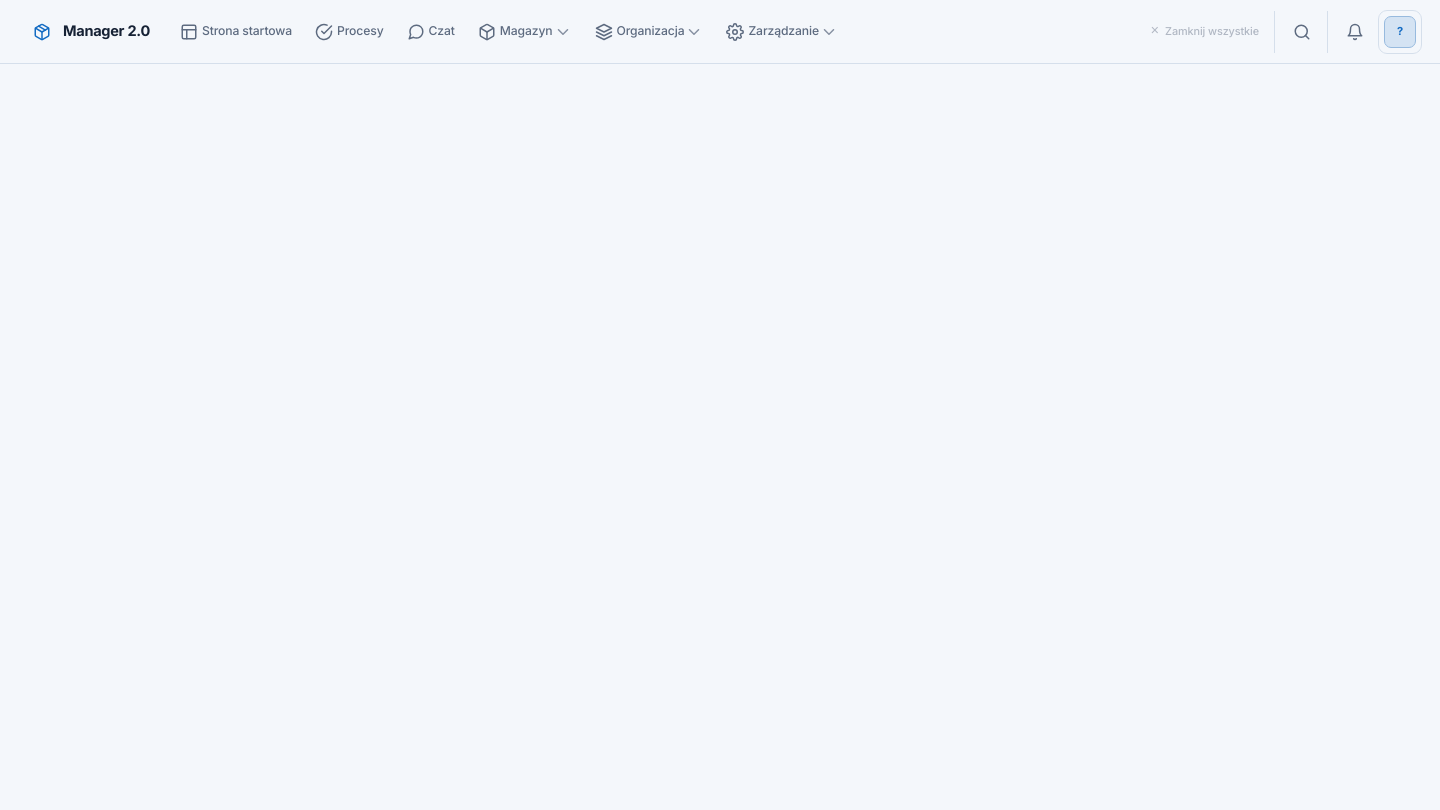
Navbar warehouse menu › opens create pallet dialog with empty and from-shipments options
Click the button "Magazyn": (525, 32) [468,12,582,50]
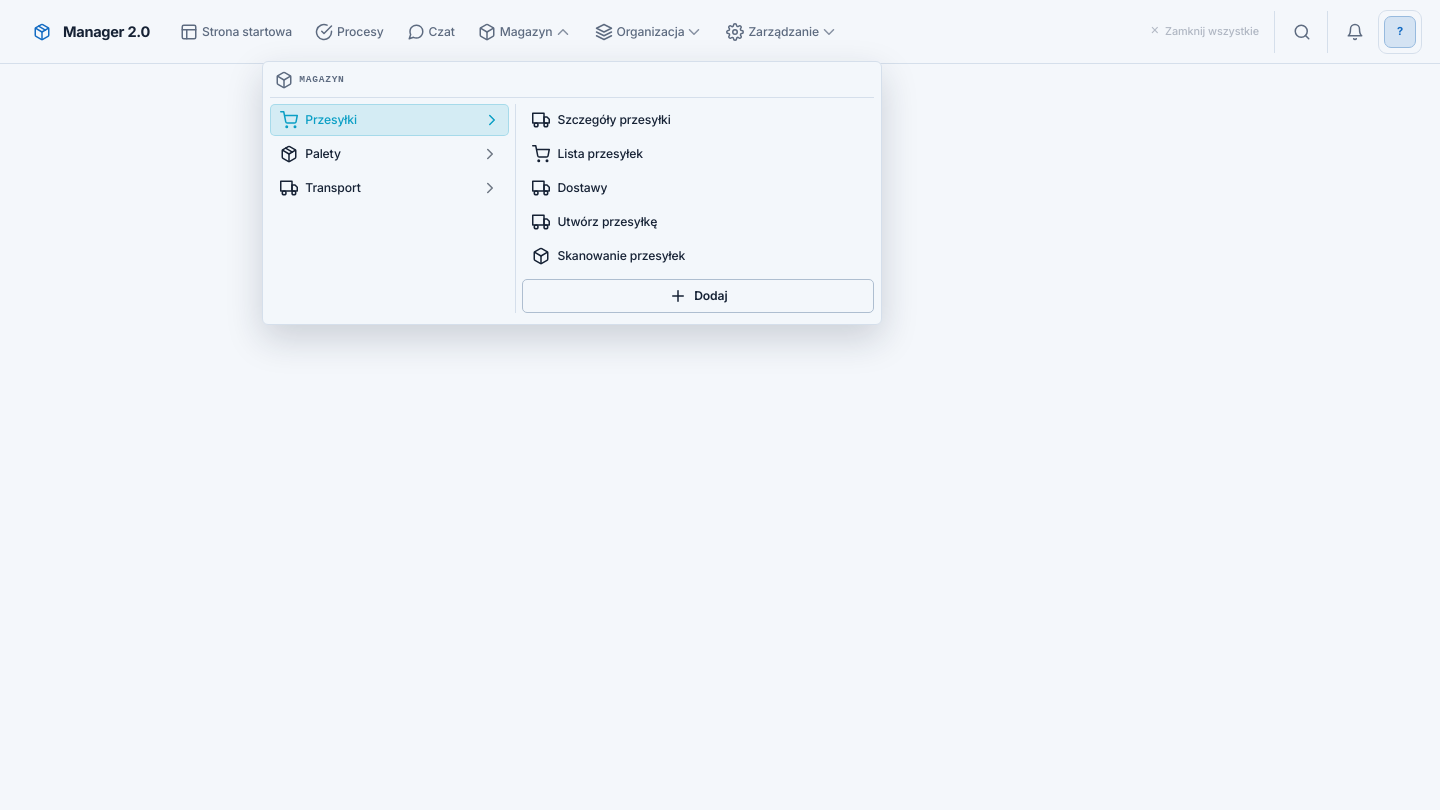
Hover over the button "Palety": (390, 154) [270,138,510,170]
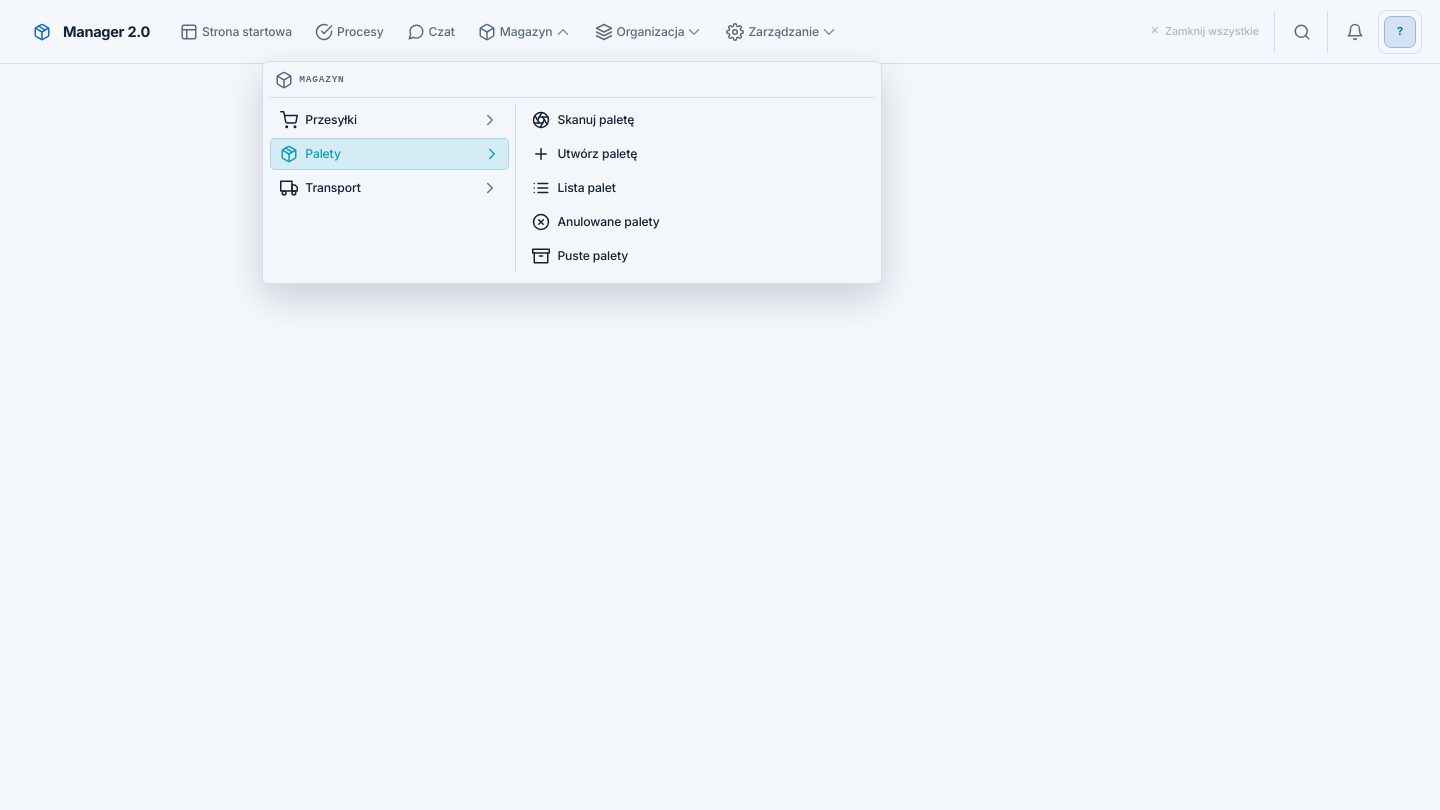
Click the button "Utwórz paletę": (597, 153) [522,138,874,170]
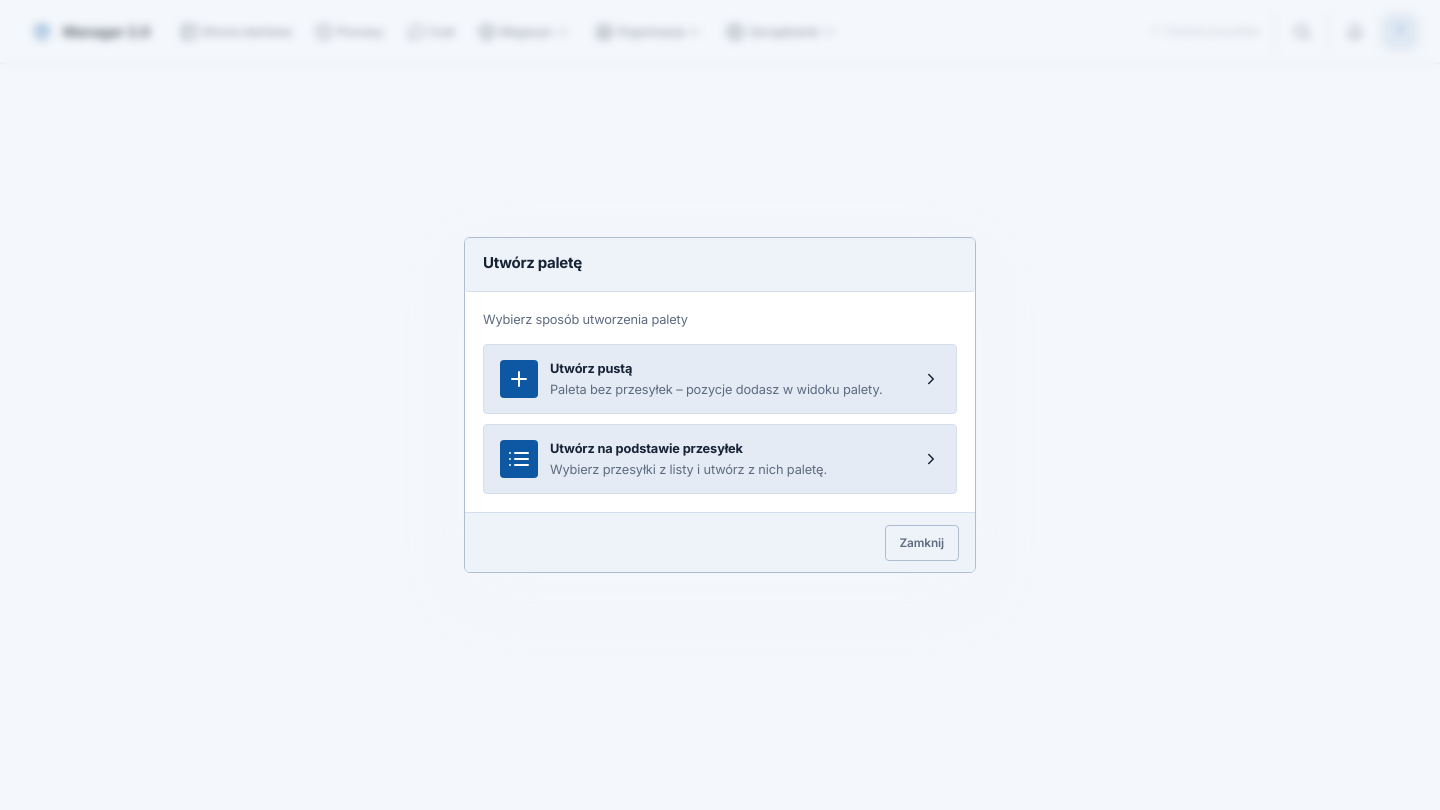
Result: the text "Utwórz pustą" is shown at [550,360,632,376]
Click the text "Utwórz na podstawie przesyłek": (646, 448) [550,441,743,456]
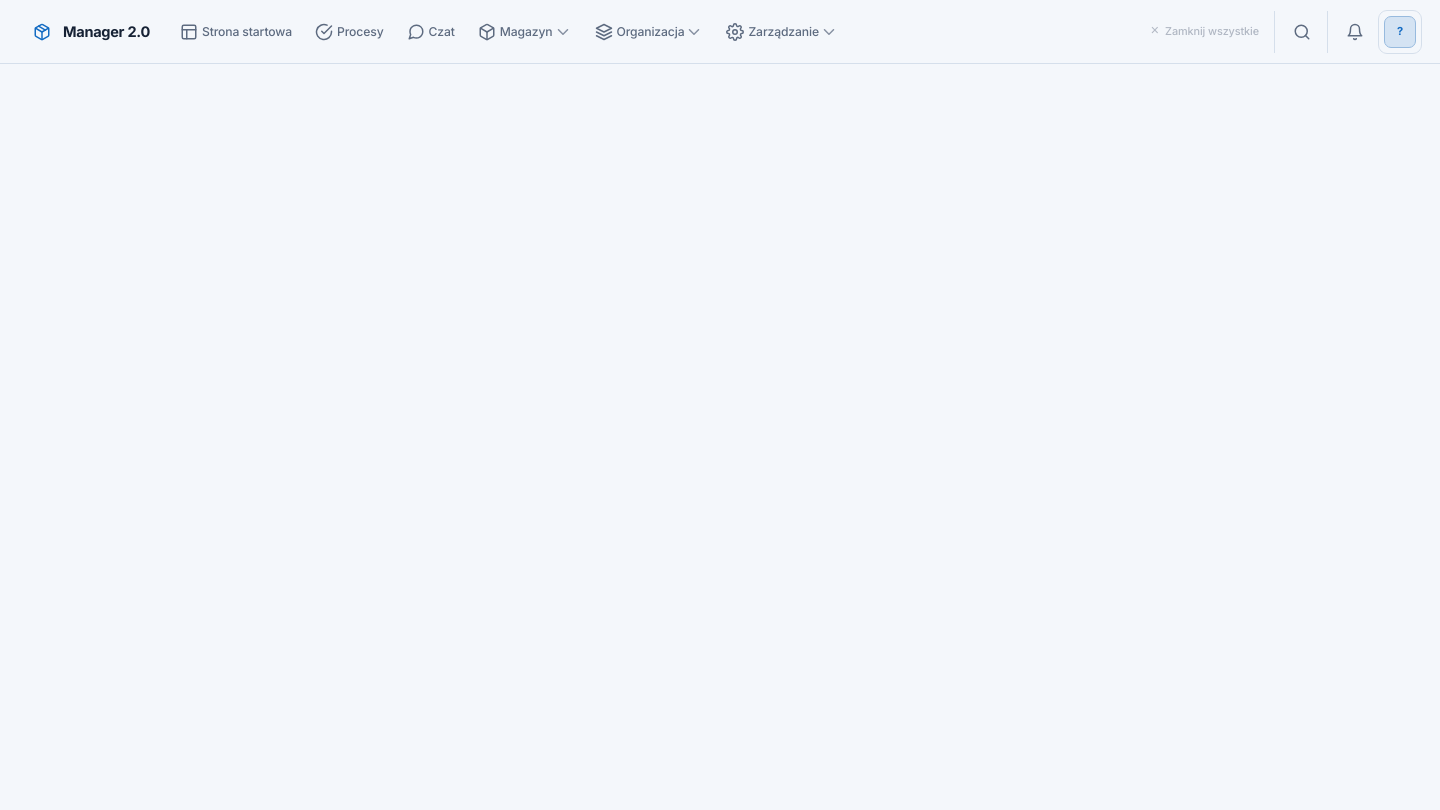
Result: the dialog is gone
